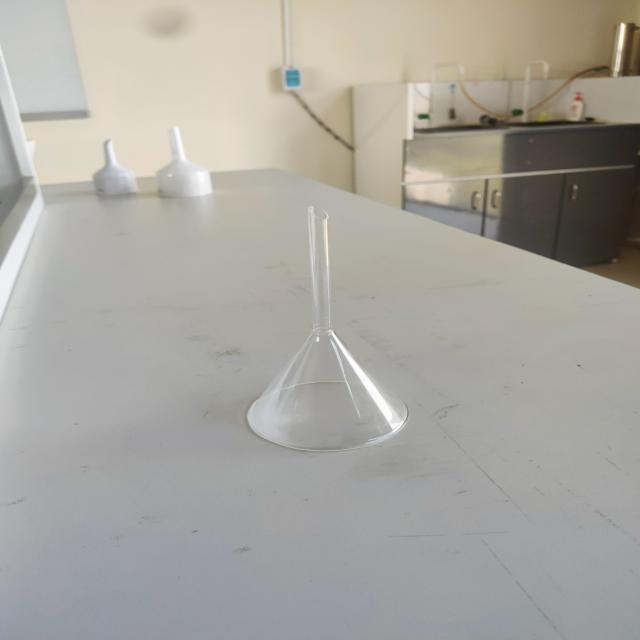Funnel: (226, 189, 428, 487)
